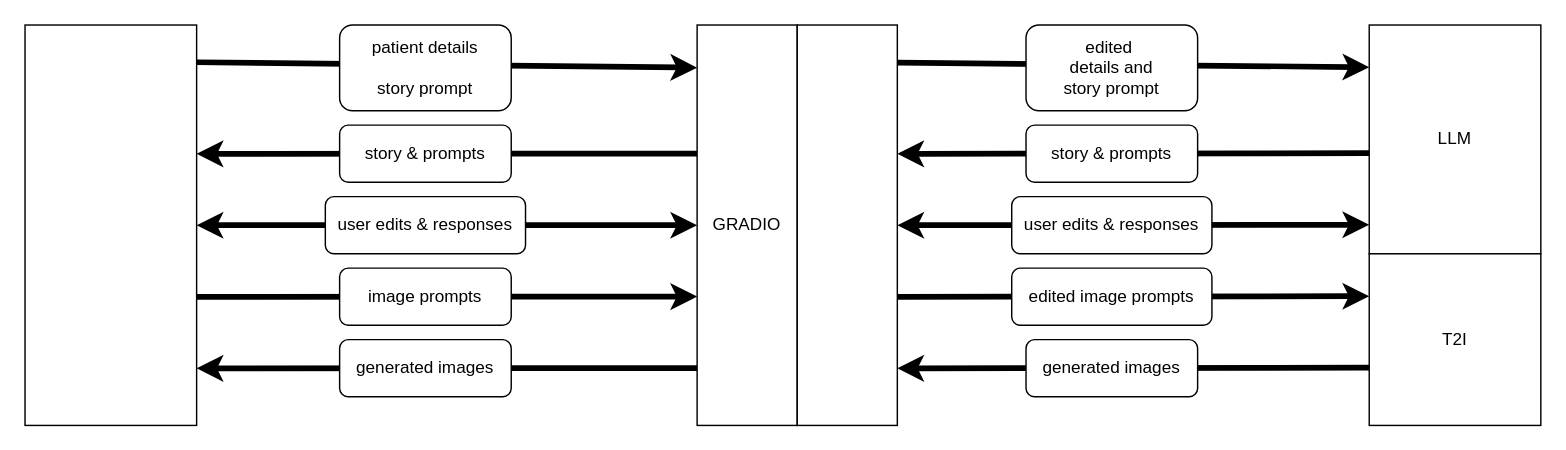
This 1566x450 diagram has some shape labels left out. Here are the shapes that lost their labels. From the top down, the centre of each, then its label:
the point at 110,224: USER
the point at 846,224: API
